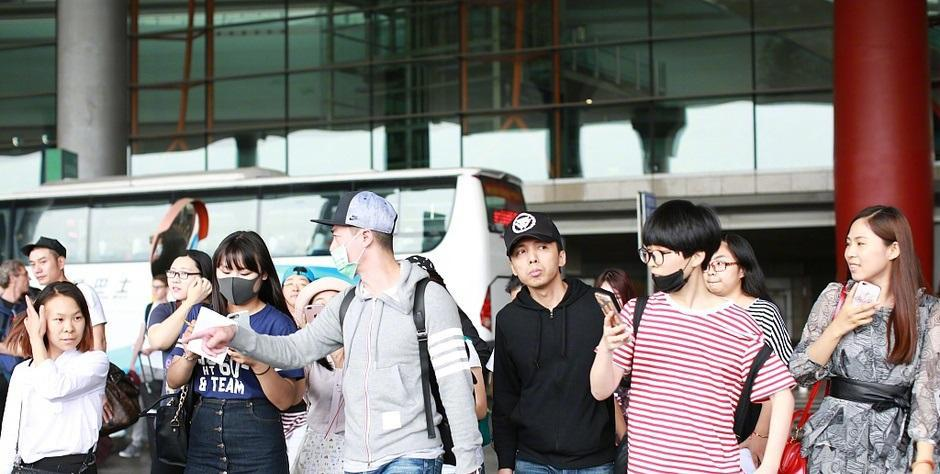NONE: (514, 237, 559, 287), (844, 232, 876, 284), (51, 305, 86, 352), (169, 264, 194, 302), (31, 253, 53, 286), (16, 268, 32, 293), (152, 282, 166, 300)
OK: (219, 261, 260, 306), (704, 252, 738, 297)
WRONG: (647, 242, 690, 294), (330, 226, 360, 276)
